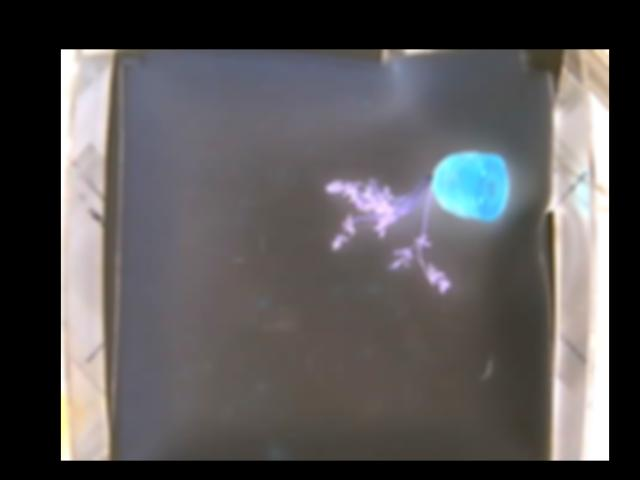Carrot: (322, 152, 508, 294)
